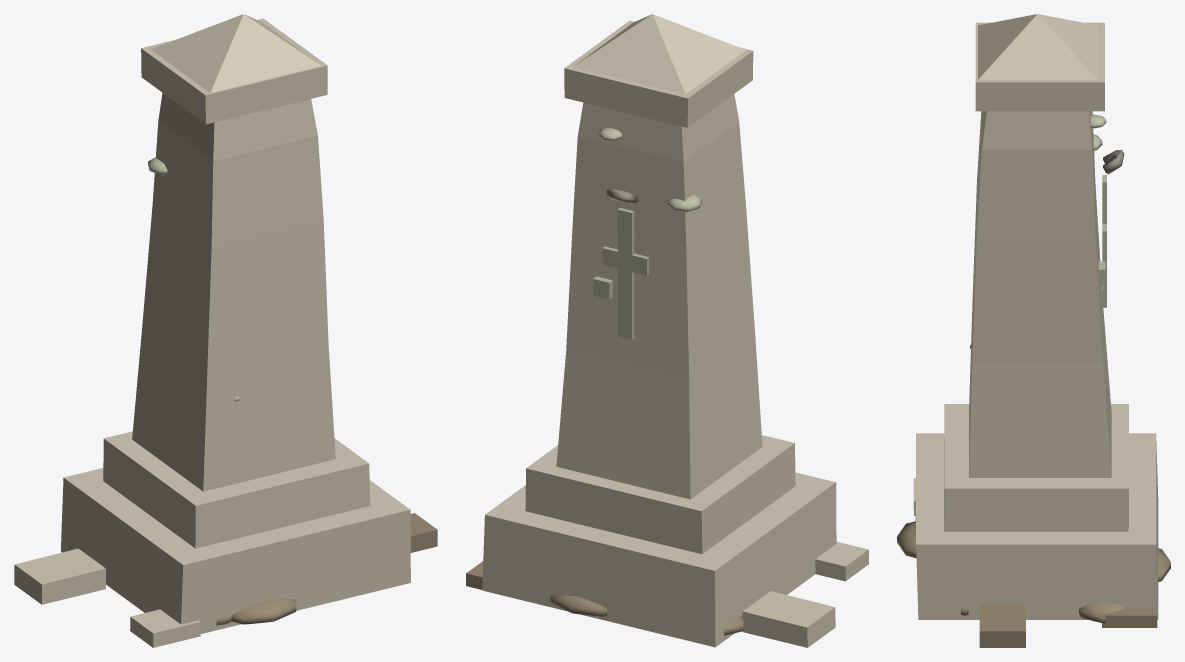
File: mile_marker.glb
3 views of the same model, side by side, from view 1: azimuth 30°, elevation 25°; view 2: azimuth 150°, elevation 25°; view 3: azimuth 270°, elevation 25° (orthographic).
Visible parts, largest first — view 1: Mile_Pillar, Mile_Footing, Mile_Top, Mile_Rubble; view 2: Mile_Pillar, Mile_Footing, Mile_Top, Mile_Rubble; view 3: Mile_Pillar, Mile_Footing, Mile_Top, Mile_Rubble.
Boxes of the visible parts, x1,y1,x2,y2 form: Mile_Pillar: (132,93,335,491); Mile_Footing: (60,431,410,633); Mile_Top: (141,14,327,124); Mile_Rubble: (14,513,437,647); Mile_Pillar: (556,94,762,499); Mile_Footing: (482,435,836,647); Mile_Top: (564,14,753,205); Mile_Rubble: (466,542,868,647); Mile_Pillar: (969,111,1111,477); Mile_Footing: (897,404,1170,623); Mile_Top: (975,14,1124,174); Mile_Rubble: (913,478,1157,647).
Bounding box in the file's own units: 0.8944 × 1.32 × 0.5931.
